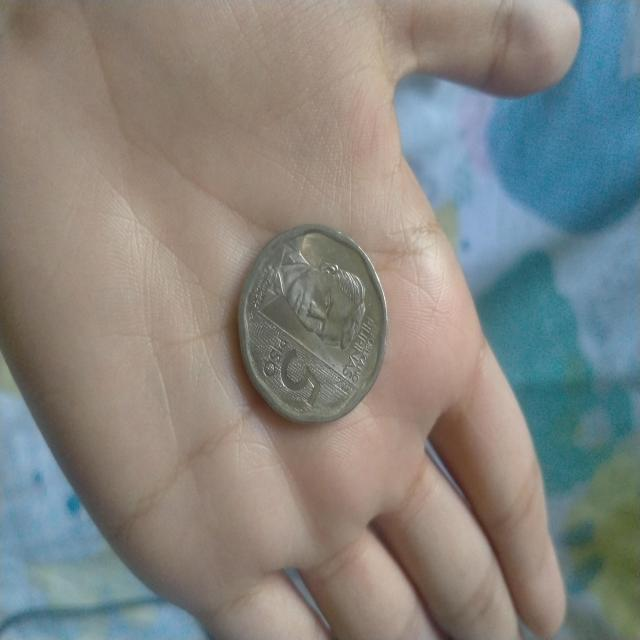5_New_Front: (261, 241, 374, 418)
